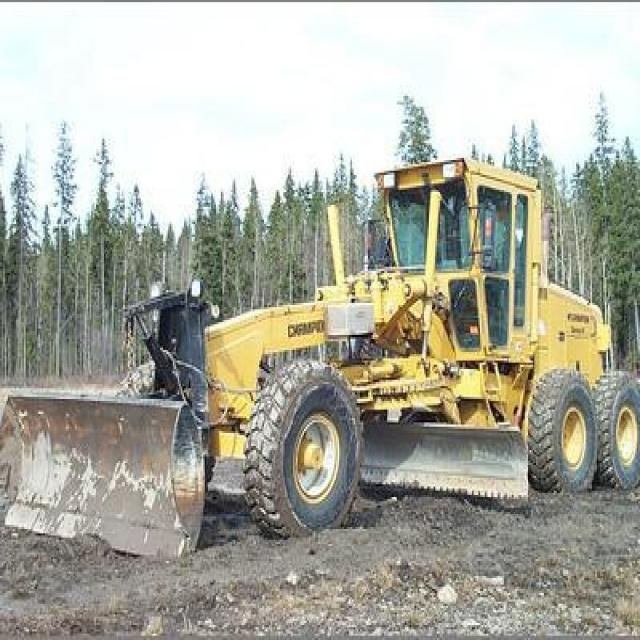Grader: (19, 156, 638, 535)
